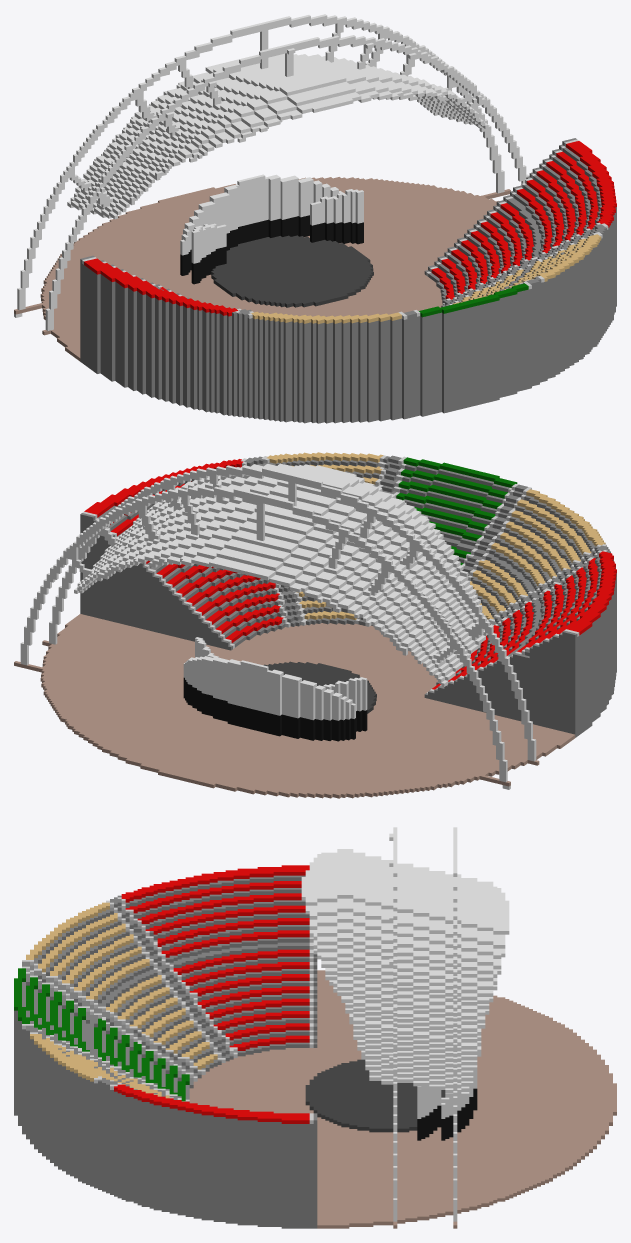
The model's file is 노천극장.obj.
3 renders of one model, top to bottom at view 1: azimuth 30°, elevation 25°; view 2: azimuth 150°, elevation 25°; view 3: azimuth 270°, elevation 25°, orthographic. The views are drawn at different scales.
Bounding box in the file's own units: 15.1 × 7.5 × 15.1.
